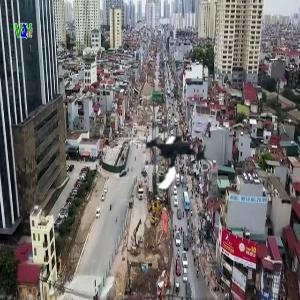drone: (133, 117, 214, 198)
